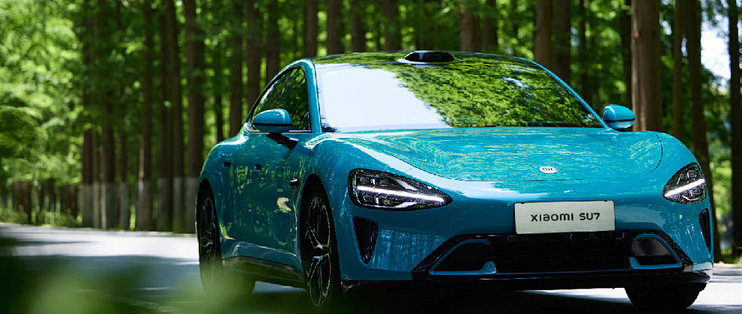su7: (197, 40, 715, 314)
